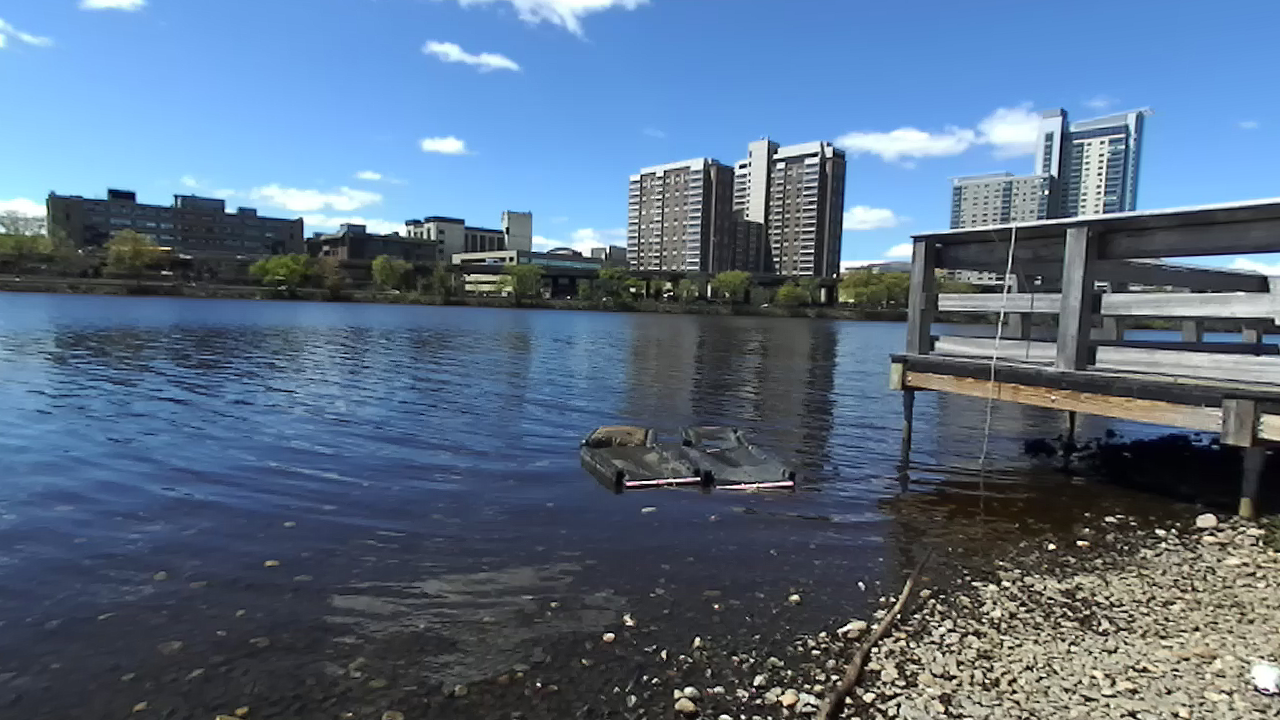bag: (579, 447, 700, 493), (686, 447, 796, 491), (579, 424, 656, 448), (678, 424, 750, 446)
